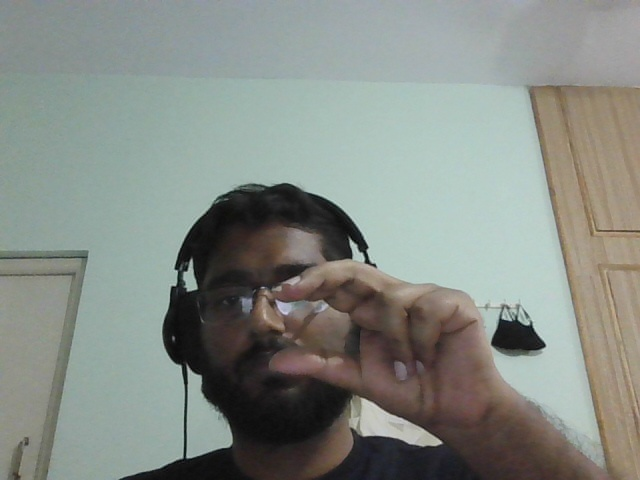No: (250, 240, 506, 462)
